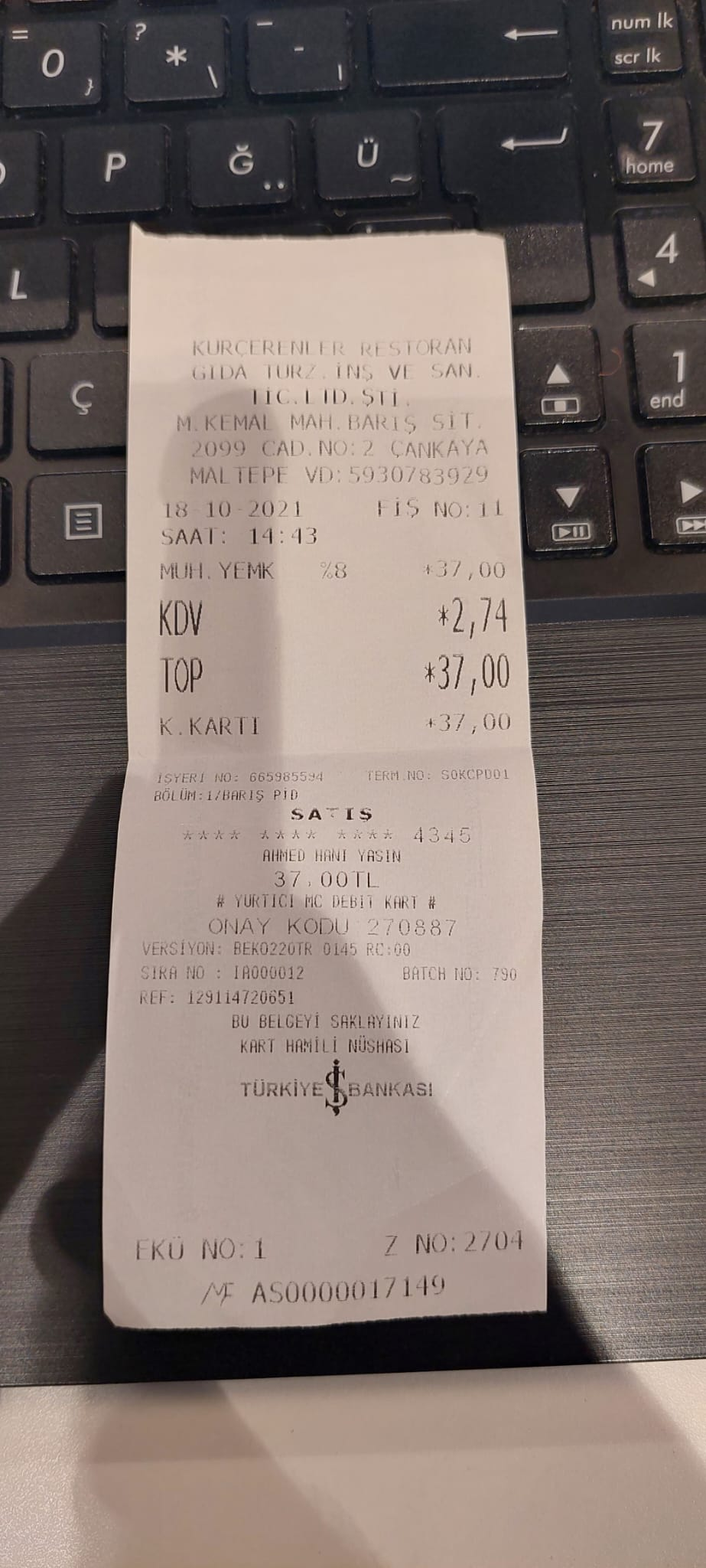date: (156, 493, 310, 523)
price: (436, 646, 517, 697)
workplace: (163, 332, 505, 462)
